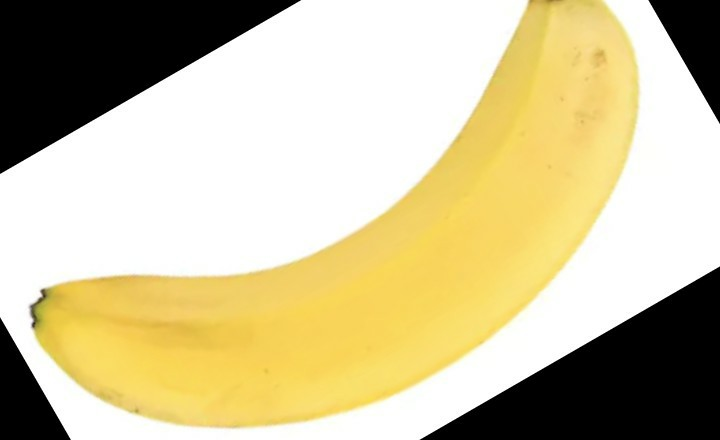fresh_banana: (35, 2, 639, 426)
